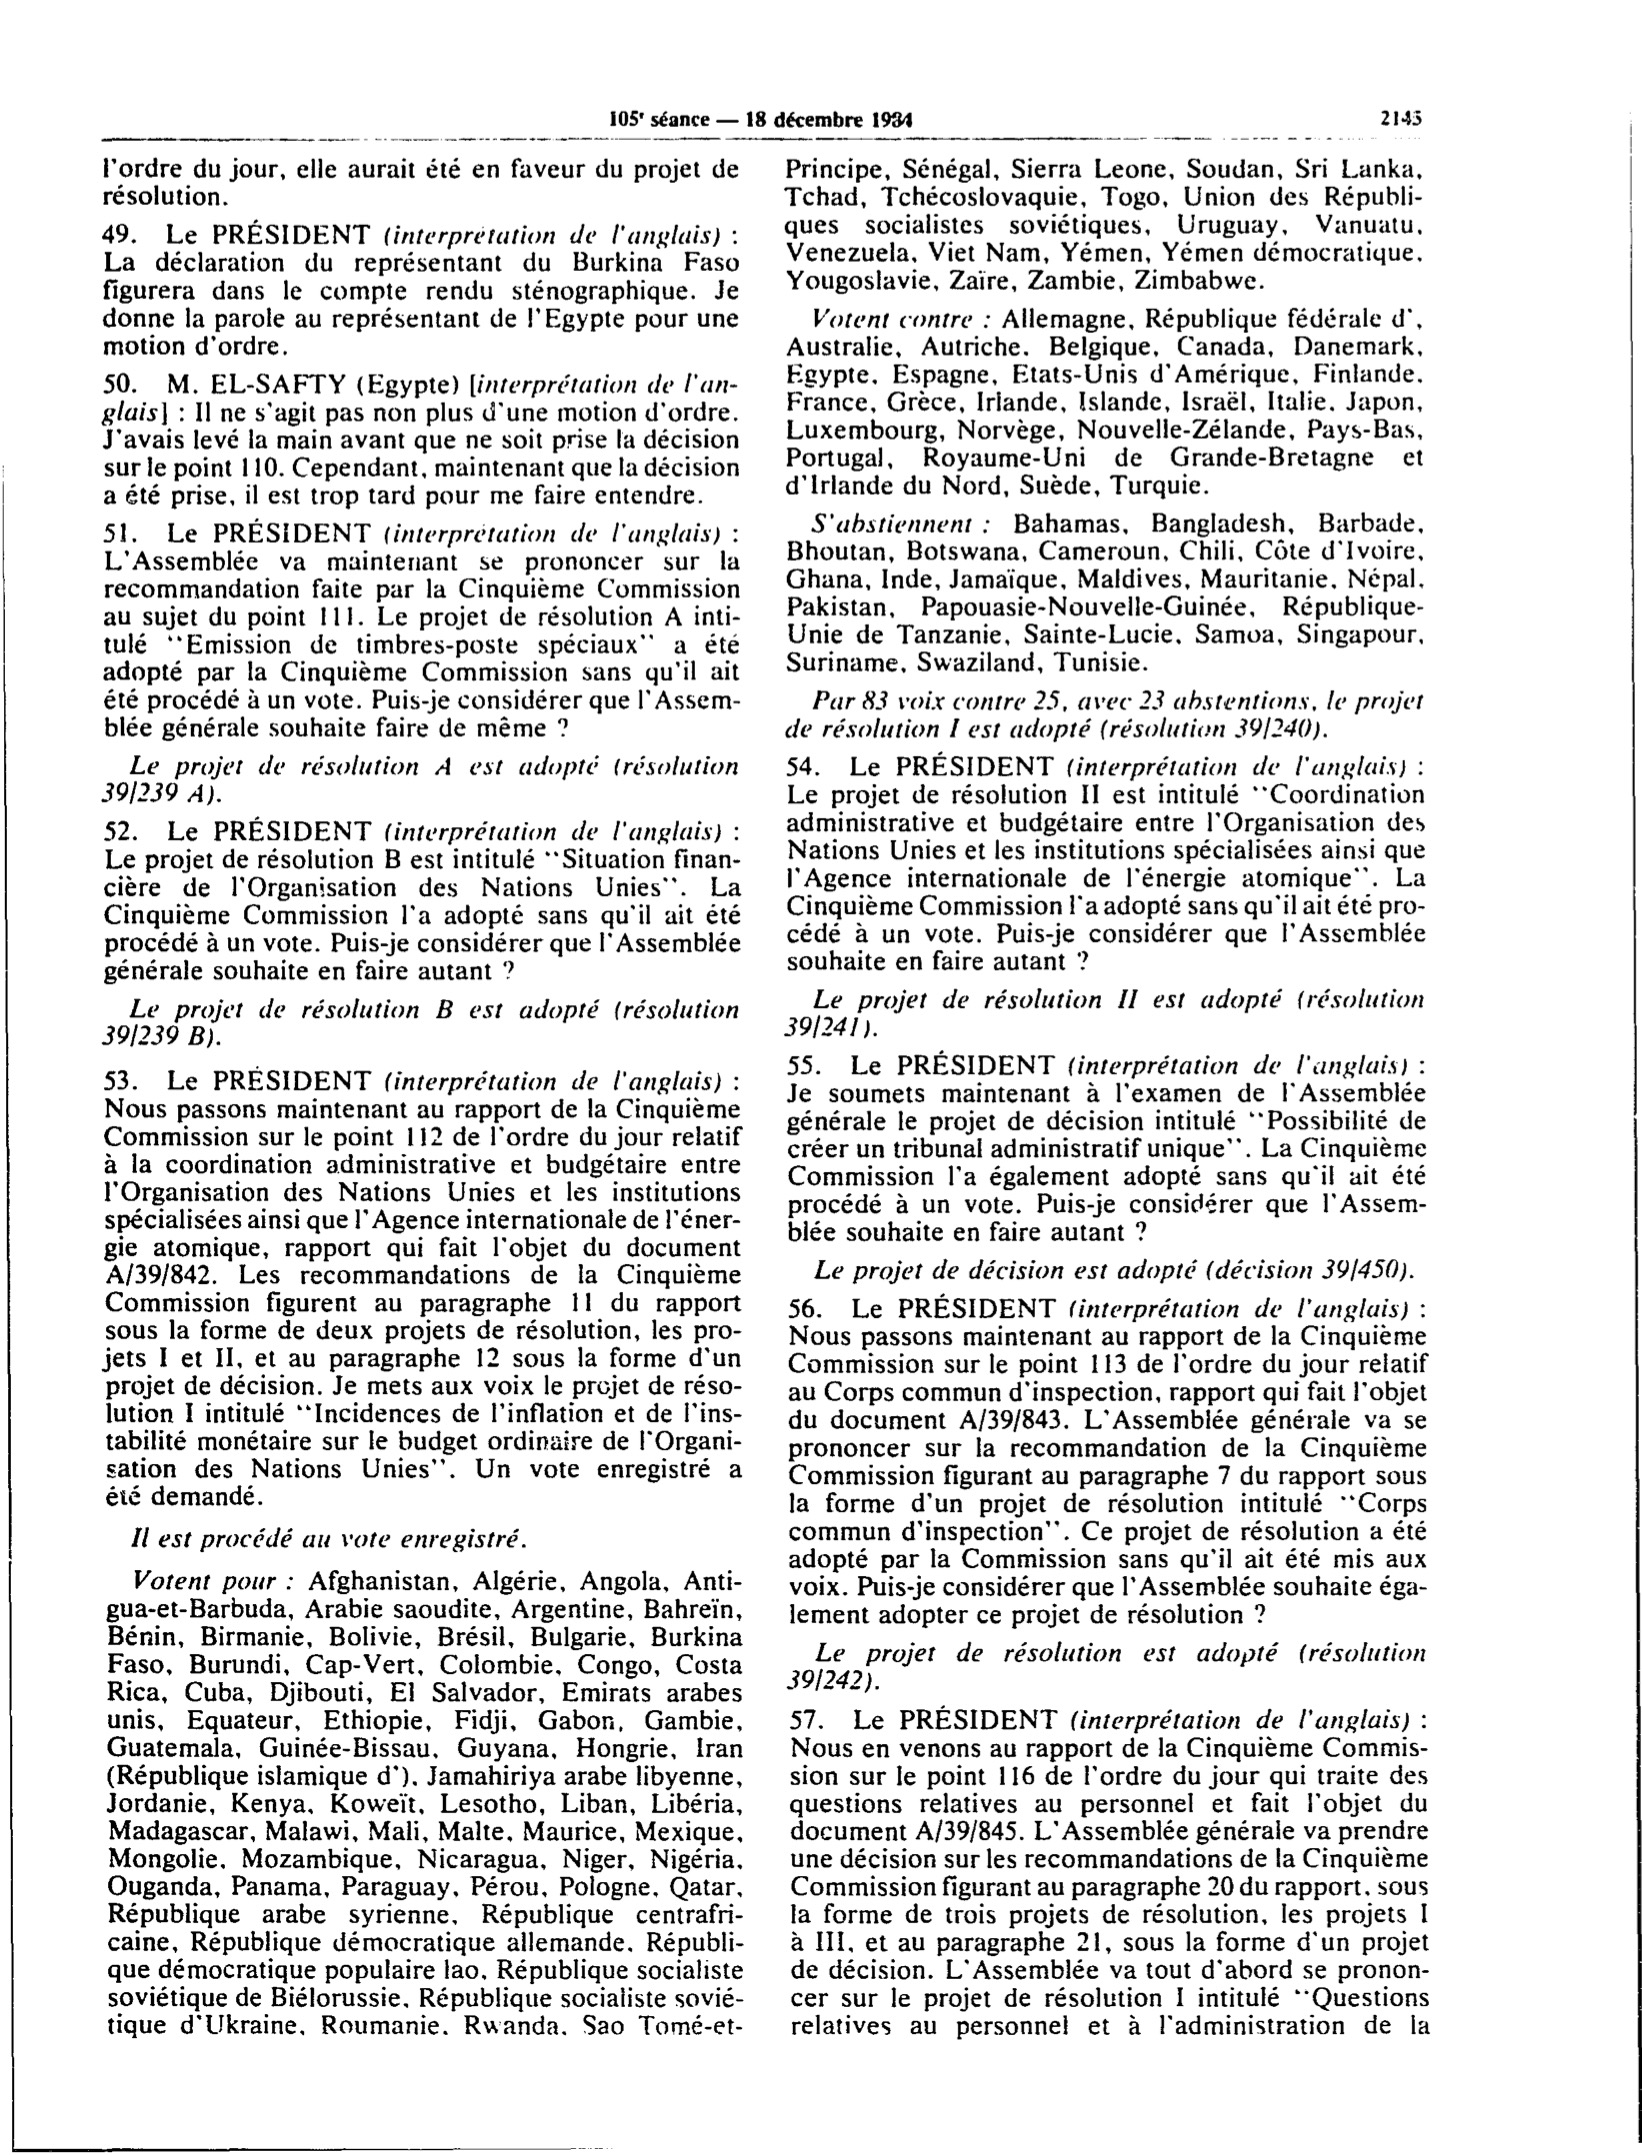MainZone-Continued: (93, 148, 745, 212)
MainZone-ListItem: (97, 1059, 750, 1512), (781, 1281, 1435, 1633), (783, 1700, 1437, 2050), (780, 748, 1432, 979), (95, 514, 749, 743), (780, 1048, 1433, 1246), (95, 812, 749, 988), (93, 364, 749, 510), (93, 215, 747, 360)
MainZone-P: (100, 1560, 749, 2050), (780, 302, 1432, 502), (781, 507, 1432, 679), (776, 152, 1430, 297), (781, 1634, 1437, 1698), (95, 991, 749, 1055), (778, 981, 1432, 1045), (95, 748, 750, 810), (781, 683, 1430, 745), (800, 1252, 1421, 1284), (102, 1517, 540, 1560)
StampZone: (602, 98, 921, 141)
TitlePageZone: (1371, 102, 1430, 136)
